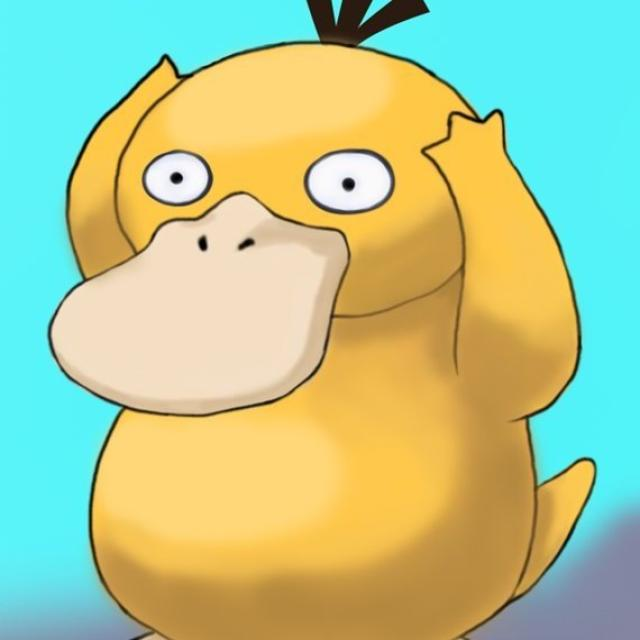Psyduck: (48, 43, 564, 640)
